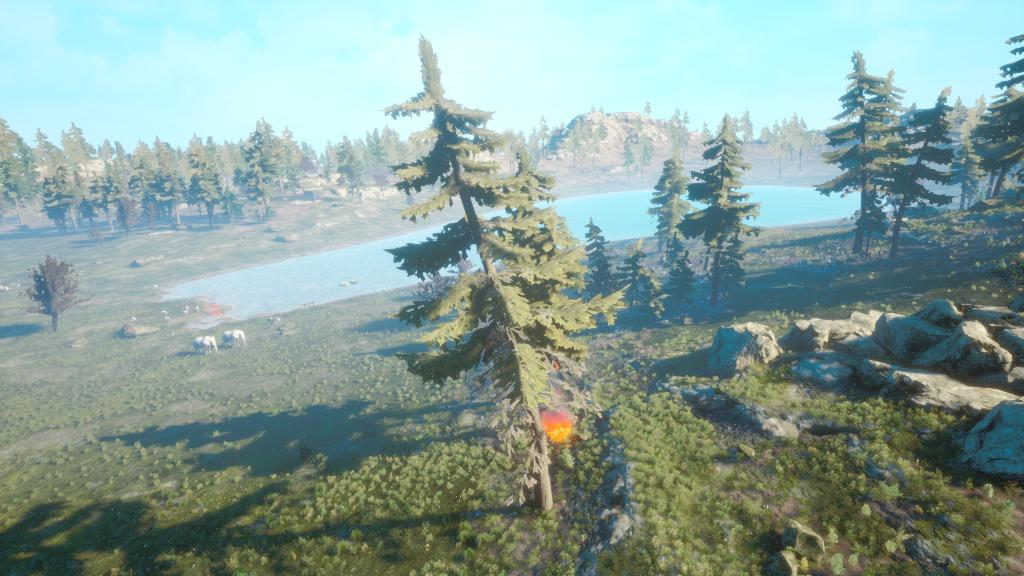Fire: (538, 413, 577, 448)
elephant: (214, 323, 255, 351), (187, 328, 223, 358)
